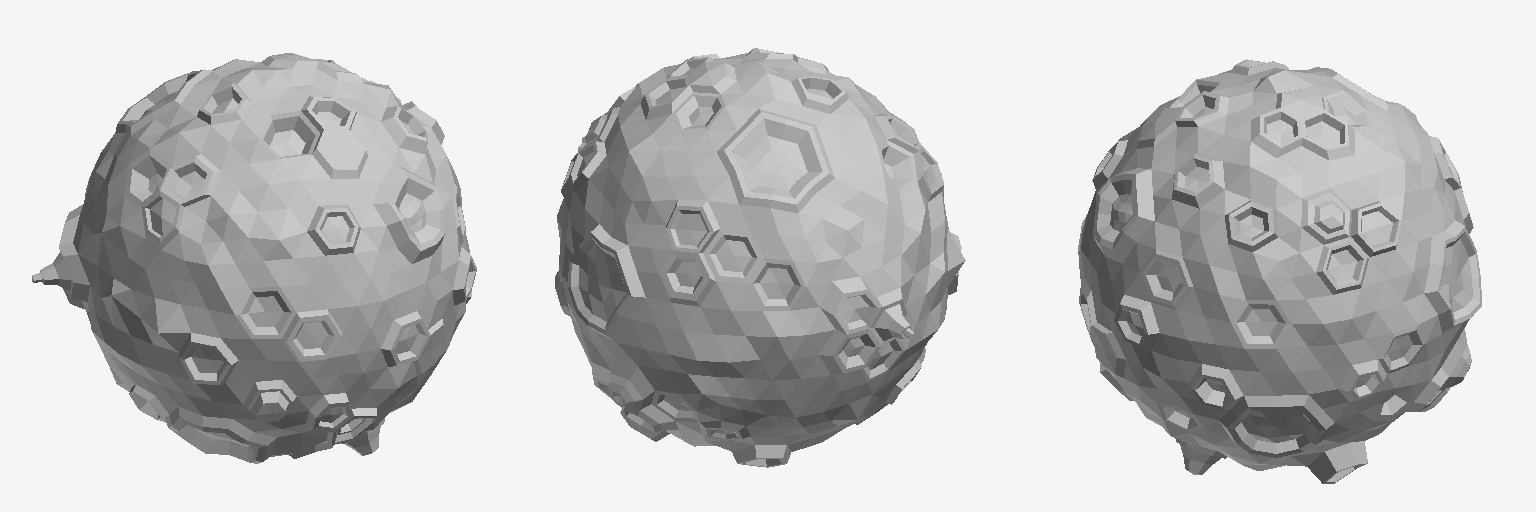
File: BasePlanet.obj
3 views of the same model, side by side, from view 1: azimuth 30°, elevation 25°; view 2: azimuth 150°, elevation 25°; view 3: azimuth 270°, elevation 25° (orthographic).
Parts seen in each view (by area): view 1: Icosphere; view 2: Icosphere; view 3: Icosphere.
Boxes of the visible parts, box(x1,y1,x2,y2) form: Icosphere: box(32, 53, 476, 463); Icosphere: box(555, 48, 965, 467); Icosphere: box(1078, 59, 1481, 483).
Size of the model in its own units: 8.8 by 8.48 by 8.32.